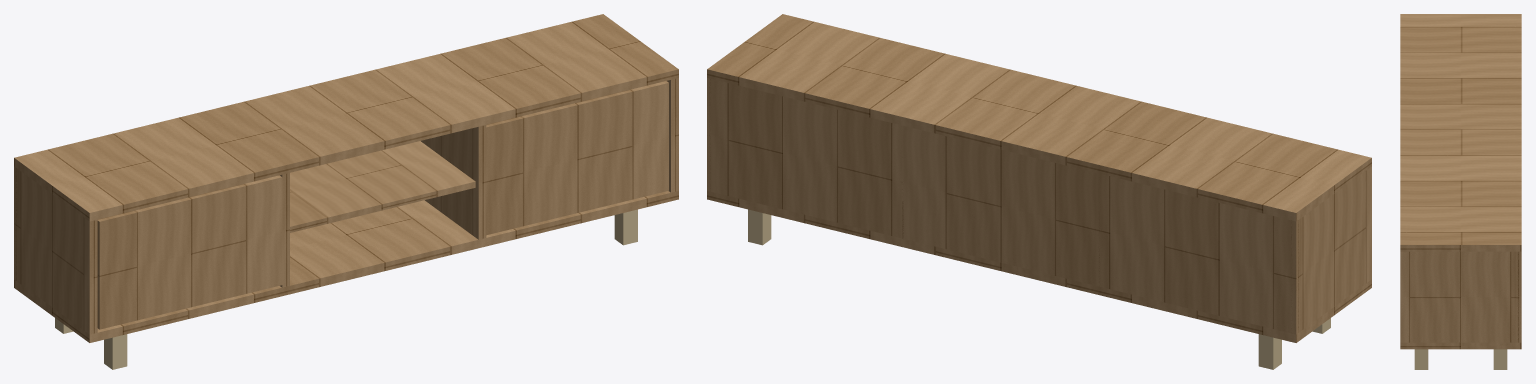
Rendered from tv_cabinet.glb.
The picture shows the model from 3 angles, left to right: view 1: azimuth 30°, elevation 25°; view 2: azimuth 150°, elevation 25°; view 3: azimuth 270°, elevation 25°; orthographic projection. The views are drawn at different scales.
Visible parts, largest first — view 1: top, door--0.59, door-0.59, bottom, open-shelf, divider--0.888, divider-0.3, divider-0.888, divider--0.3, leg--0.78-0.13, leg-0.78-0.13; view 2: back, top, divider--0.888, bottom, leg--0.78--0.13, leg-0.78--0.13; view 3: top, divider-0.888, bottom, back, leg-0.78--0.13, leg-0.78-0.13.
Part boxes in pixels (box(x1,y1,x2,y2)): top: box(14, 14, 678, 221); door--0.59: box(97, 175, 282, 329); door-0.59: box(485, 81, 668, 235); bottom: box(14, 191, 678, 342); open-shelf: box(290, 141, 475, 232); divider--0.888: box(14, 166, 97, 334); divider-0.3: box(421, 125, 486, 239); divider-0.888: box(667, 78, 678, 192); divider--0.3: box(280, 173, 289, 287); leg--0.78-0.13: box(104, 334, 127, 369); leg-0.78-0.13: box(614, 209, 637, 245); back: box(707, 78, 1299, 334); top: box(707, 14, 1371, 221); divider--0.888: box(1288, 166, 1371, 333); bottom: box(707, 191, 1371, 342); leg--0.78--0.13: box(1258, 334, 1281, 369); leg-0.78--0.13: box(748, 209, 771, 245); top: box(1400, 14, 1521, 251); divider-0.888: box(1400, 251, 1521, 342); bottom: box(1400, 342, 1521, 349); back: box(1516, 251, 1521, 342); leg-0.78--0.13: box(1493, 349, 1507, 369); leg-0.78-0.13: box(1414, 349, 1428, 369).
Size of the model in its own units: 1.8 by 0.5 by 0.4.
2 materials, 1 textured.
